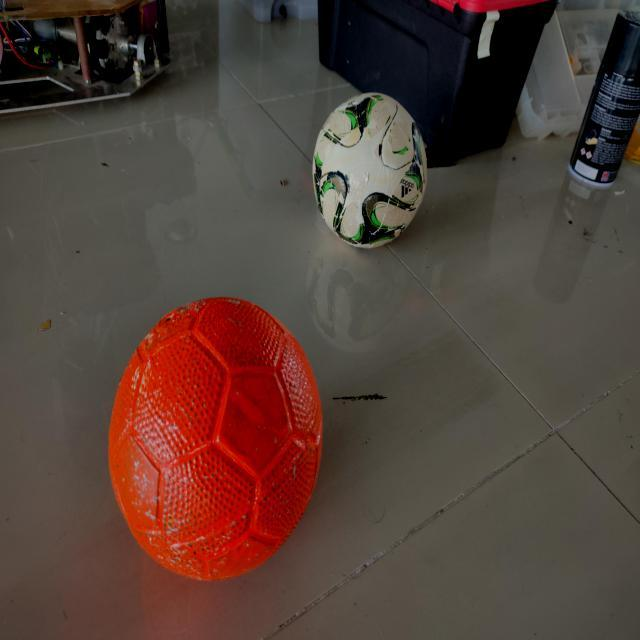bola: (103, 294, 334, 590)
